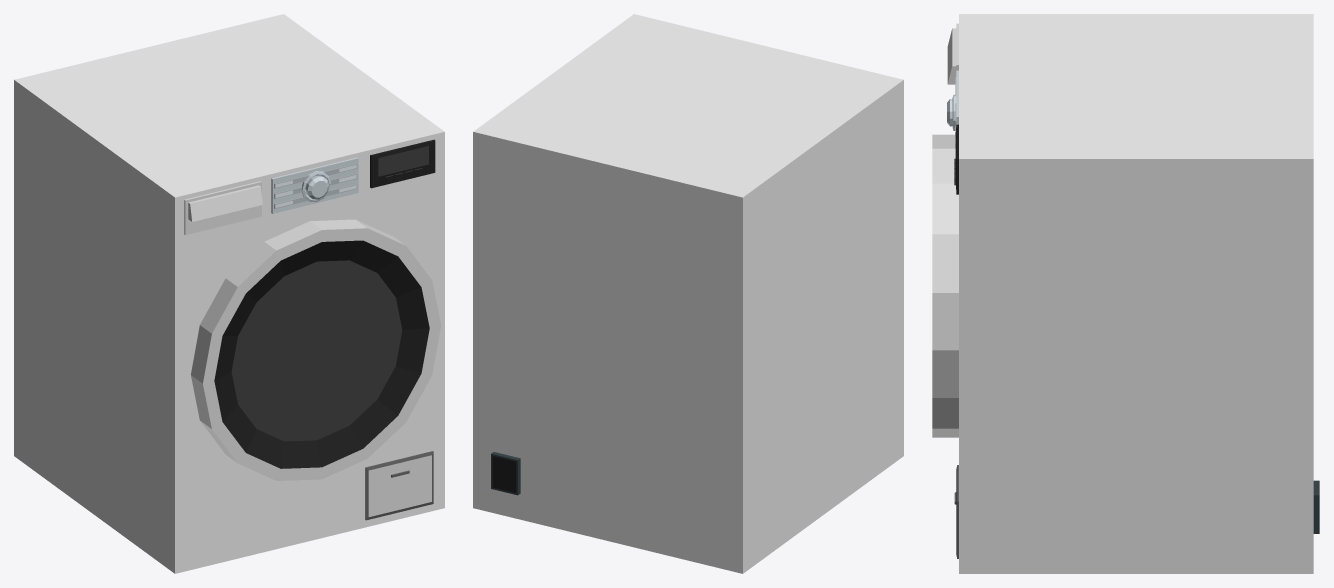
The model's file is Washer.glb.
3 views of the same model, side by side, from view 1: azimuth 30°, elevation 25°; view 2: azimuth 150°, elevation 25°; view 3: azimuth 270°, elevation 25° (orthographic). The views are drawn at different scales.
Visible parts, largest first — view 1: Low Poly Washer, KA-F600_Washer_V1_Door, KA-F600_Washer_V1_Tray, KA-F600_Washer_V1_Knob; view 2: Low Poly Washer; view 3: Low Poly Washer, KA-F600_Washer_V1_Door, KA-F600_Washer_V1_Tray.
Boxes of the visible parts, x1,y1,x2,y2 form: Low Poly Washer: (14, 14, 444, 573); KA-F600_Washer_V1_Door: (191, 219, 441, 480); KA-F600_Washer_V1_Tray: (184, 181, 262, 235); KA-F600_Washer_V1_Knob: (301, 171, 331, 202); Low Poly Washer: (473, 14, 903, 573); Low Poly Washer: (954, 14, 1319, 573); KA-F600_Washer_V1_Door: (932, 134, 958, 437); KA-F600_Washer_V1_Tray: (947, 23, 958, 84).
Size of the model in its own units: 0.6 by 0.8 by 0.6772.
Materials: 1 (1 with a texture image).
